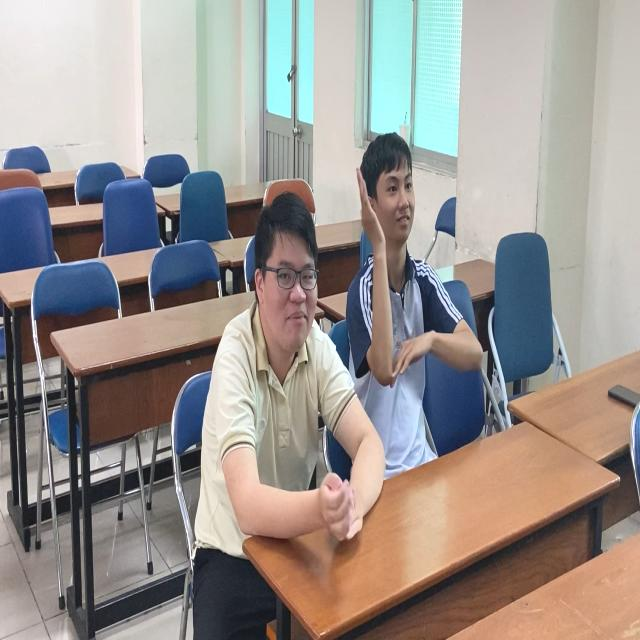raise_hand: (350, 125, 482, 451)
